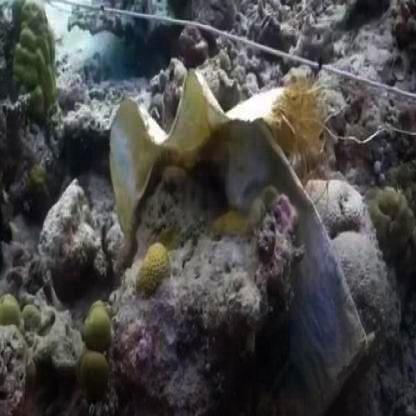plastic: (100, 80, 330, 209)
